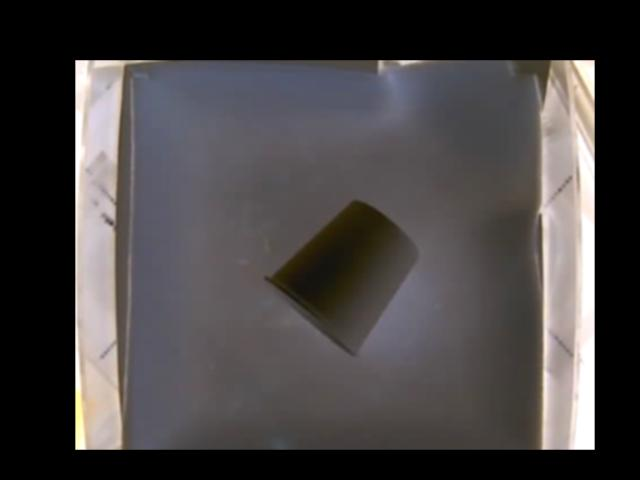Cup: (263, 199, 417, 358)
